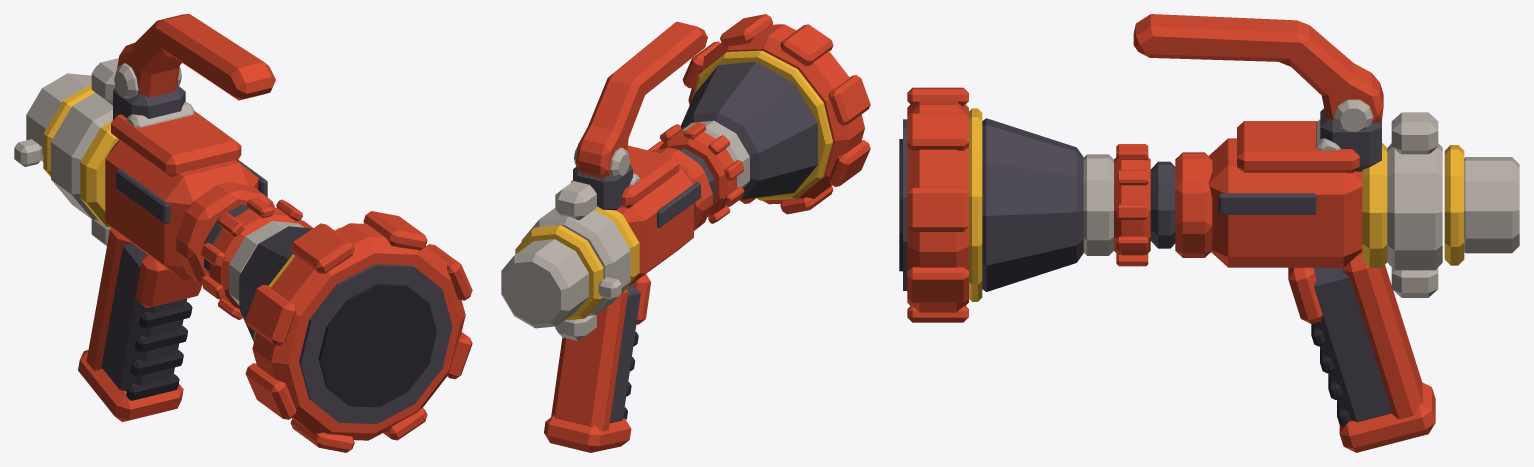
Rendered from NozzleModel.fbx.
3 renders of one model, left to right at view 1: azimuth 30°, elevation 25°; view 2: azimuth 150°, elevation 25°; view 3: azimuth 270°, elevation 25°, orthographic. The views are drawn at different scales.
Parts seen in each view (by area): view 1: Body, SprayRing, Lever; view 2: Body, SprayRing, Lever; view 3: Body, SprayRing, Lever.
Boxes of the visible parts, x1,y1,x2,y2 form: Body: [14, 58, 313, 422]; SprayRing: [245, 211, 472, 452]; Lever: [114, 14, 275, 100]; Body: [501, 61, 817, 452]; SprayRing: [682, 14, 870, 214]; Lever: [574, 21, 707, 178]; Body: [982, 108, 1519, 452]; SprayRing: [899, 87, 982, 322]; Lever: [1133, 14, 1383, 131].
Size of the model in its own units: 0.1861 by 0.3779 by 0.5045.
